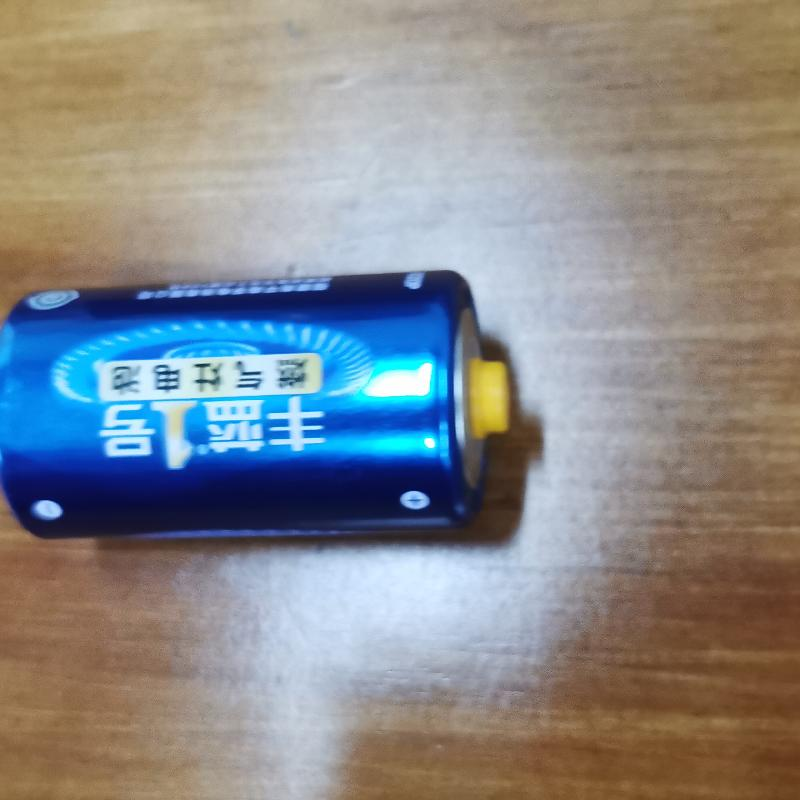battery: (3, 263, 540, 547)
